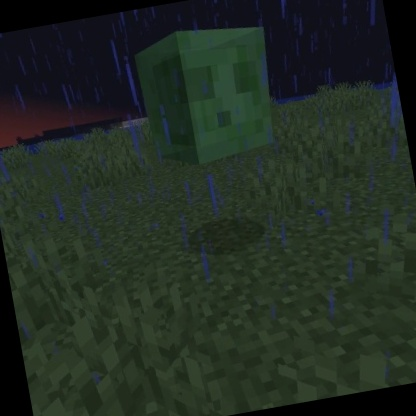slime: (126, 11, 293, 179)
